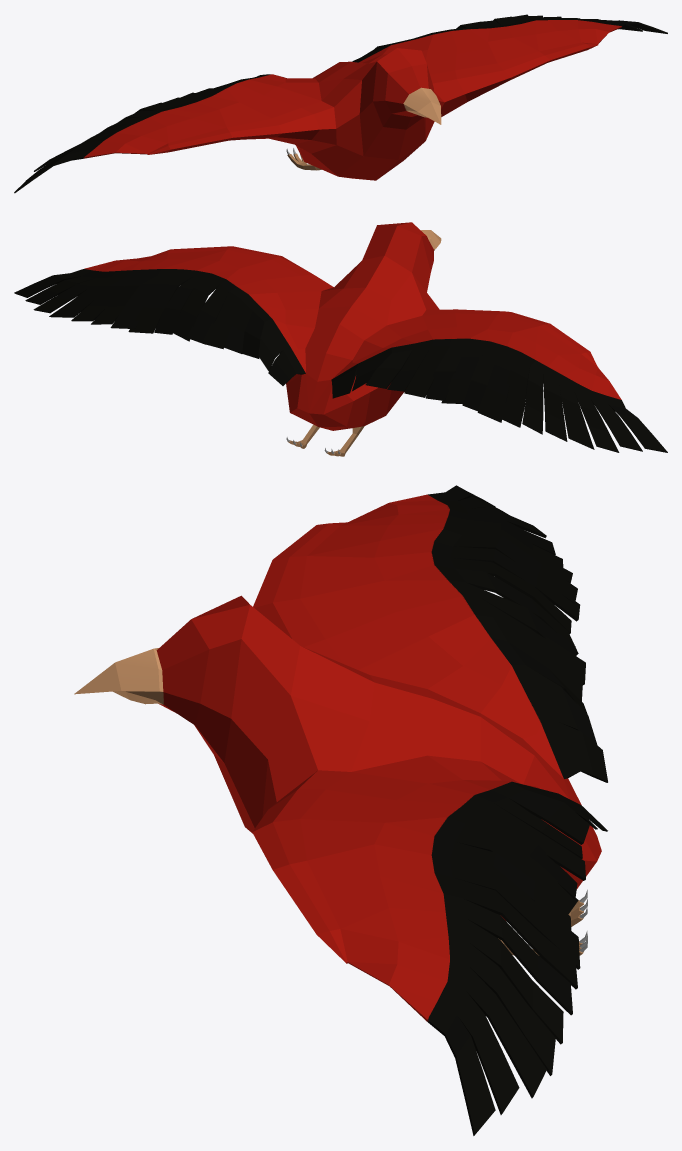
Rendered from pasare.obj.
3 renders of one model, top to bottom at view 1: azimuth 30°, elevation 25°; view 2: azimuth 150°, elevation 25°; view 3: azimuth 270°, elevation 25°, orthographic. The views are drawn at different scales.
Visible parts, largest first — view 1: Body_High; view 2: Body_High; view 3: Body_High.
Boxes of the visible parts, x1,y1,x2,y2 form: Body_High: [14, 14, 667, 193]; Body_High: [14, 222, 667, 456]; Body_High: [74, 485, 607, 1135].
Bounding box in the file's own units: 8.91 × 2.21 × 3.15.
1 material, 1 textured.
